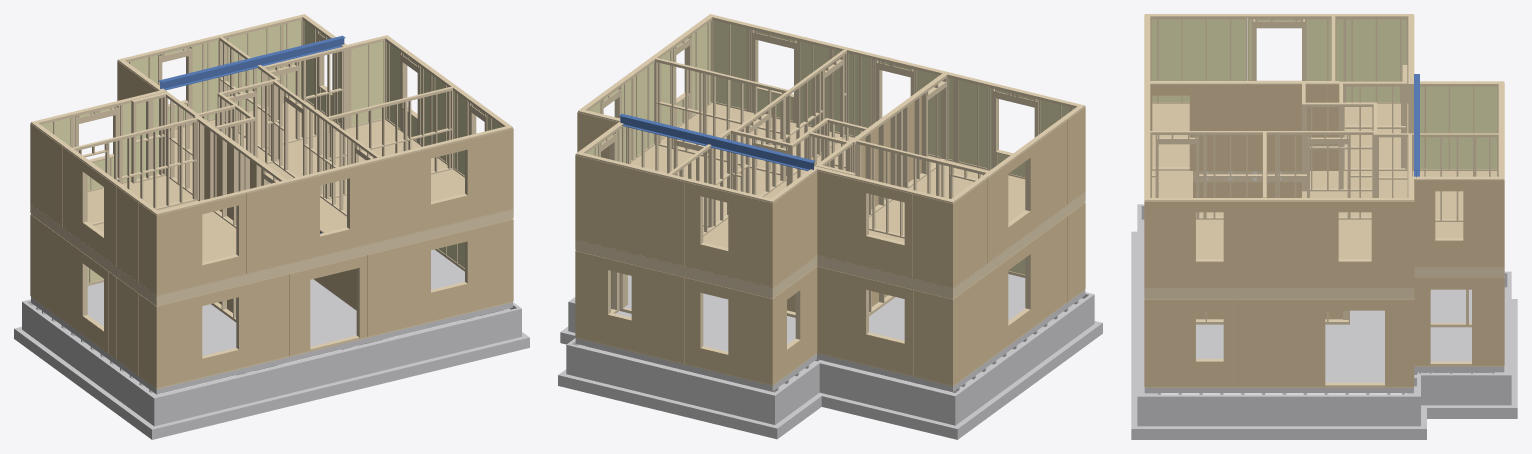
File: stage-4.glb
The picture shows the model from 3 angles, left to right: view 1: azimuth 30°, elevation 25°; view 2: azimuth 150°, elevation 25°; view 3: azimuth 270°, elevation 25°; orthographic projection. The views are drawn at different scales.
Size of the model in its own units: 11.53 by 6.6 by 9.53.
